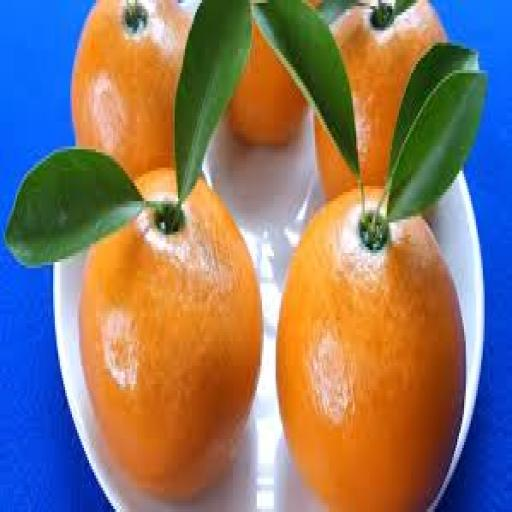orange: (278, 192, 465, 511), (79, 180, 261, 499), (228, 25, 306, 146)
